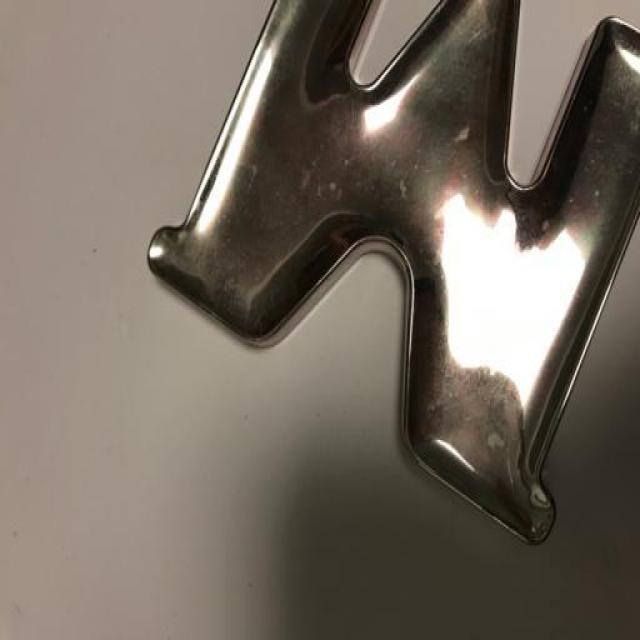others: (125, 1, 640, 563)
